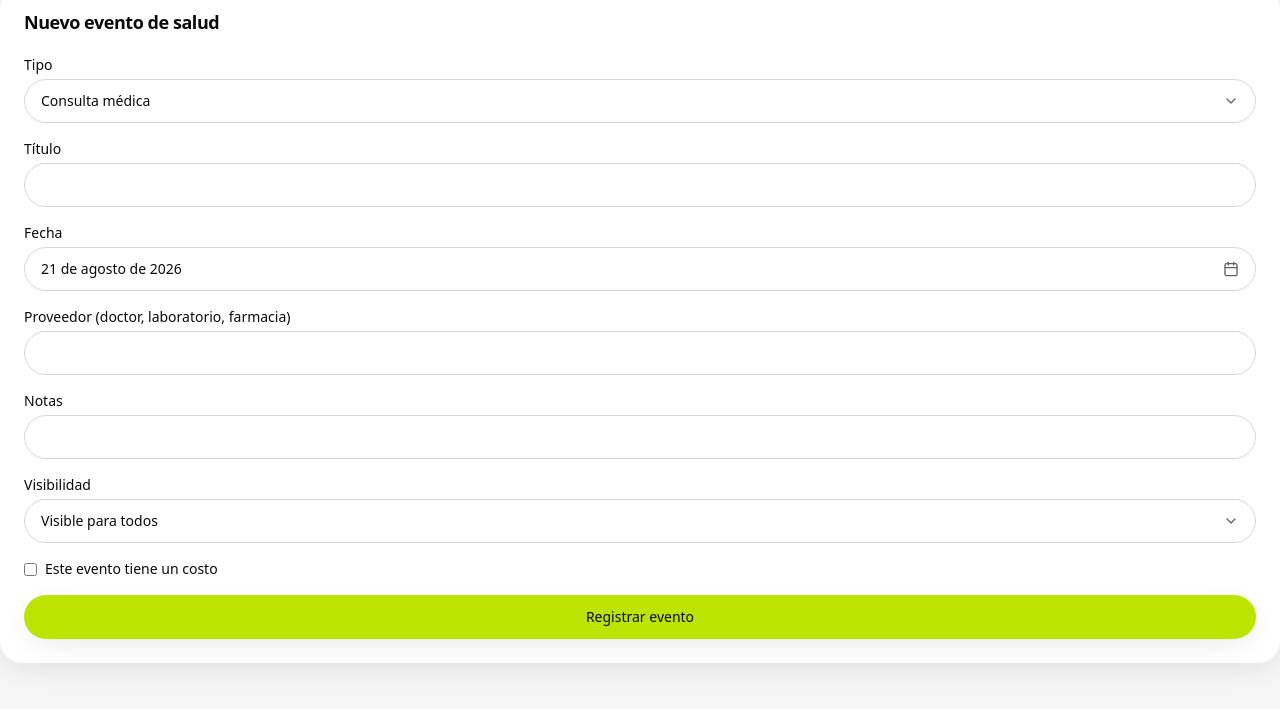
Test case: EventForm — smoke render (health-tracking) › checking 'tiene un costo' reveals account/category/amount/recurrence fields
Step 1. Click the checkbox labelled "Este evento tiene un costo" → (30,569), box [24,562,37,576]
(page scrolled)
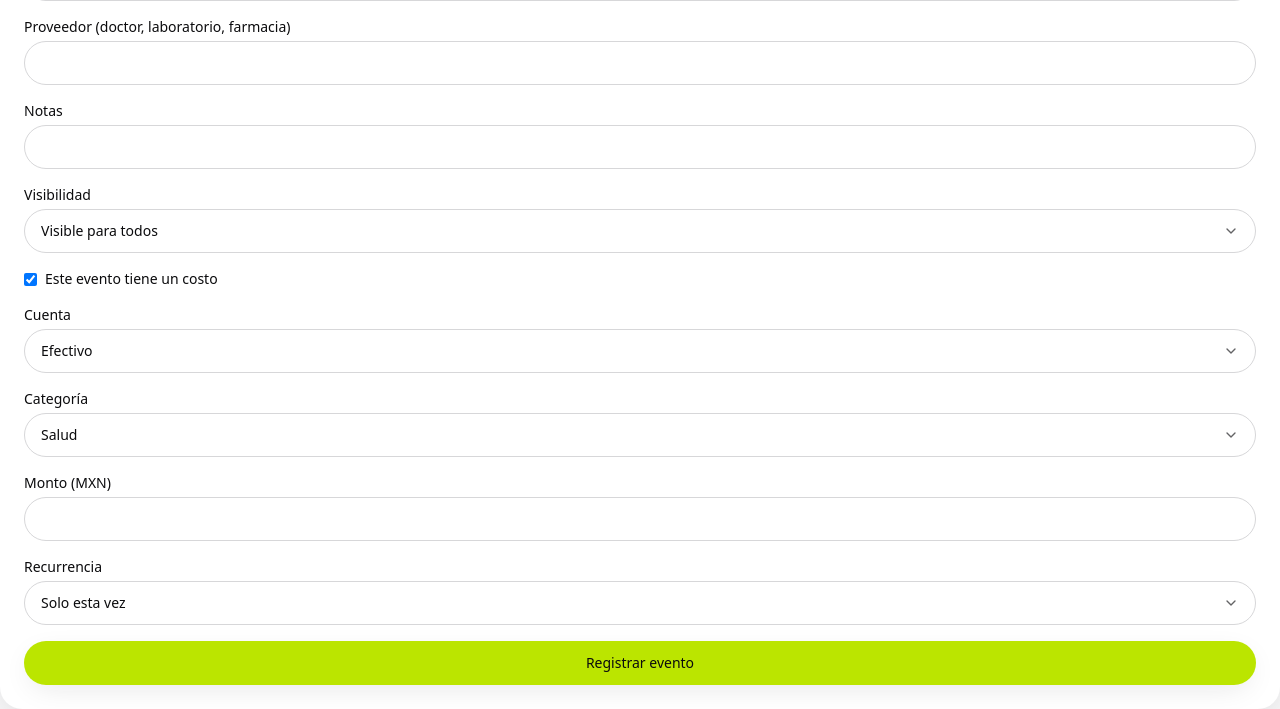
expect the dropdown named "Cuenta" is shown: met, box [24,329,1256,373]
expect the dropdown named "Categoría" is shown: met, box [24,413,1256,457]
expect the number field labelled "Monto (MXN)" is shown: met, box [24,497,1256,541]
